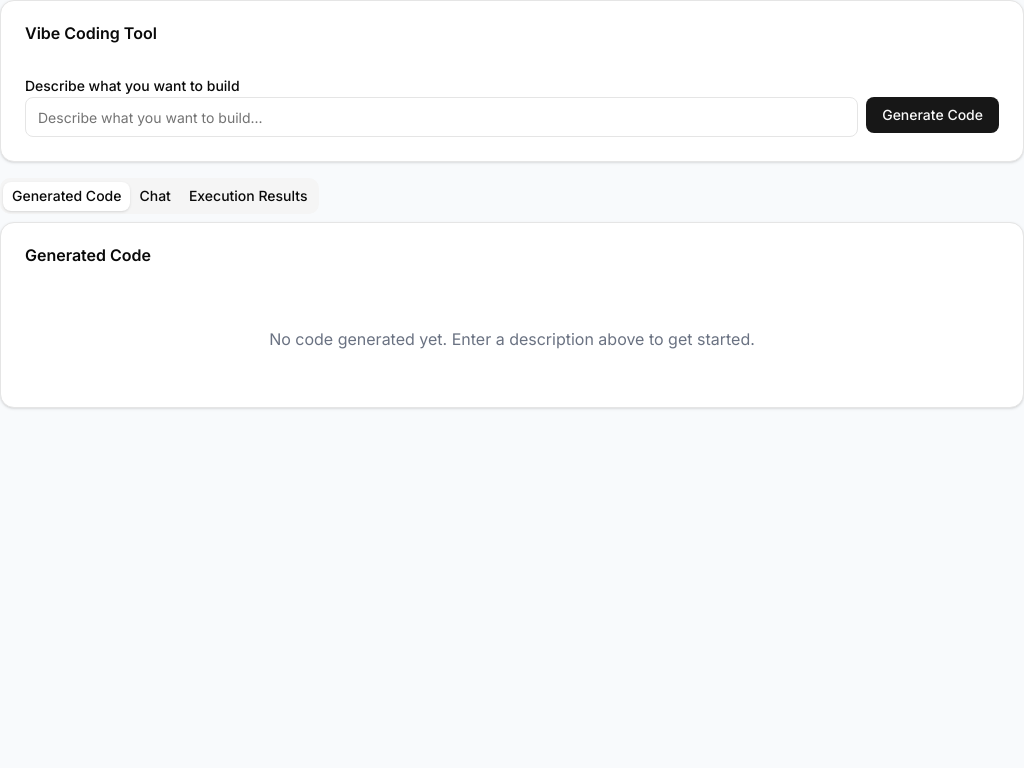
Test: VibeCodingTool › Code Generation › should display generated code in the editor
In the field with placeholder "Describe what you want to build...": (442, 117) [25,97,858,137], type "Create a hello world function"
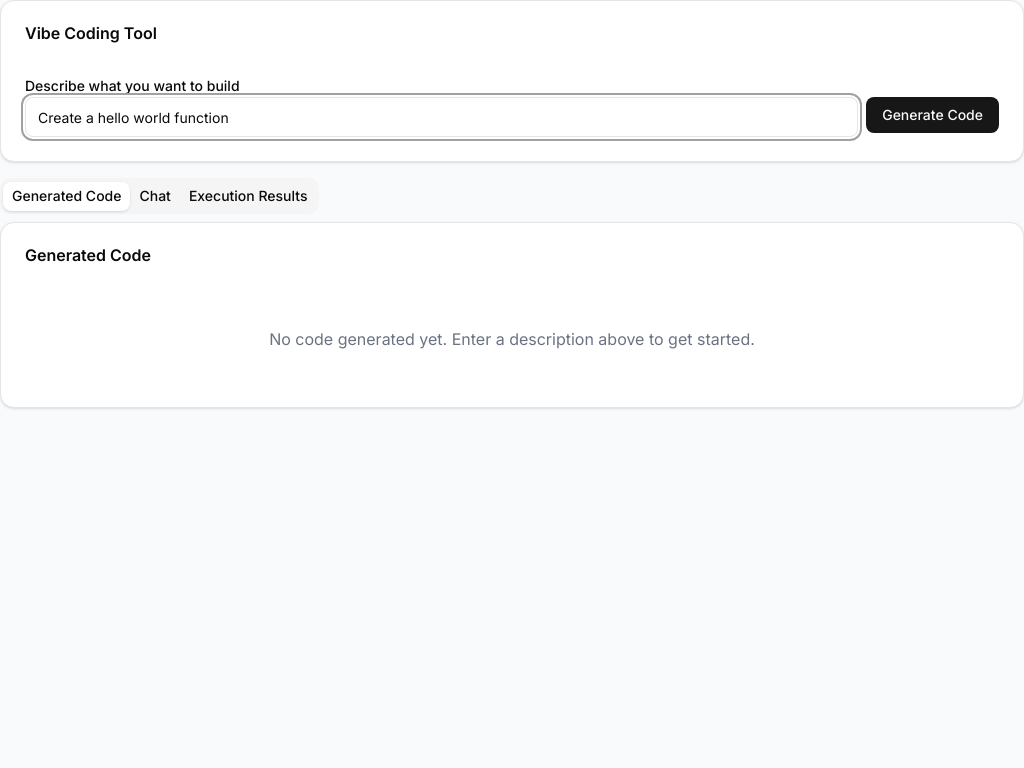
Click the button "Generate Code": (933, 115) [866,97,999,133]
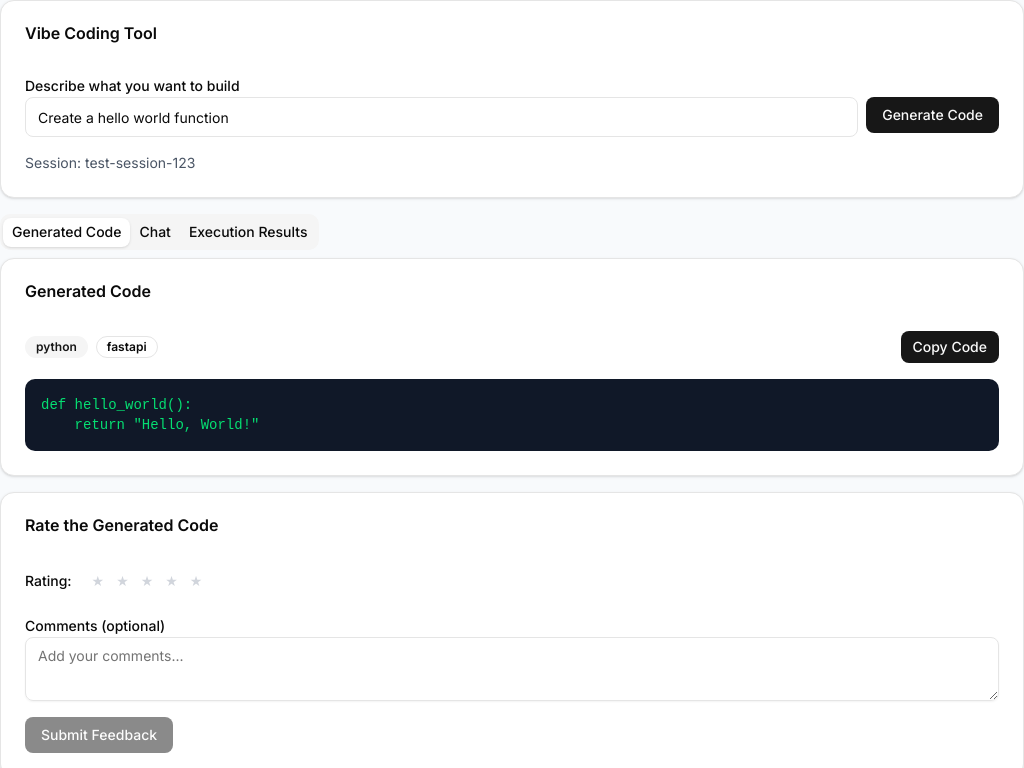
Now the element with test id "code-editor" is shown, box [25,379,999,451]
Now the text "def hello_world(): return \"Hello, World!\"" is shown, box [41,397,259,433]
